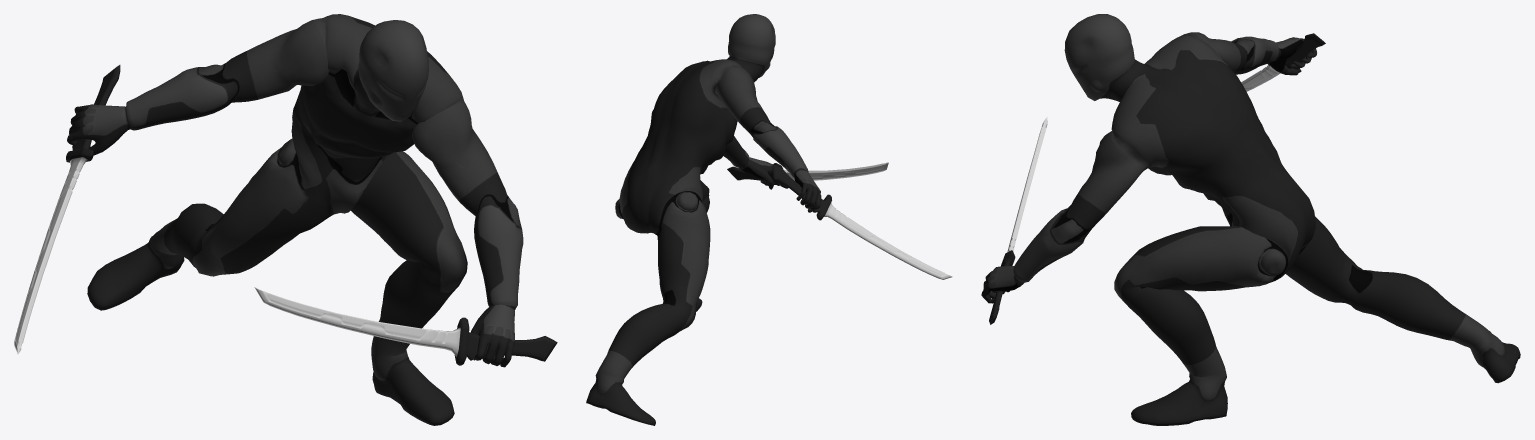
The picture shows the model from 3 angles, left to right: view 1: azimuth 30°, elevation 25°; view 2: azimuth 150°, elevation 25°; view 3: azimuth 270°, elevation 25°; orthographic projection. The views are drawn at different scales.
Visible parts, largest first — view 1: Cyborg_Ninja_Killer, Sword_l, Sword_l001; view 2: Cyborg_Ninja_Killer, Sword_l001, Sword_l; view 3: Cyborg_Ninja_Killer, Sword_l, Sword_l001.
Boxes of the visible parts, x1=… form: Cyborg_Ninja_Killer: x1=67, y1=14, x2=523, y2=425; Sword_l: x1=254, y1=287, x2=557, y2=365; Sword_l001: x1=14, y1=65, x2=120, y2=354; Cyborg_Ninja_Killer: x1=586, y1=14, x2=821, y2=425; Sword_l001: x1=772, y1=164, x2=952, y2=279; Sword_l: x1=727, y1=162, x2=888, y2=188; Cyborg_Ninja_Killer: x1=981, y1=14, x2=1520, y2=425; Sword_l: x1=989, y1=117, x2=1047, y2=324; Sword_l001: x1=1241, y1=33, x2=1325, y2=91.
Size of the model in its own units: 134 by 125 by 163.
2 materials, 2 textured.
